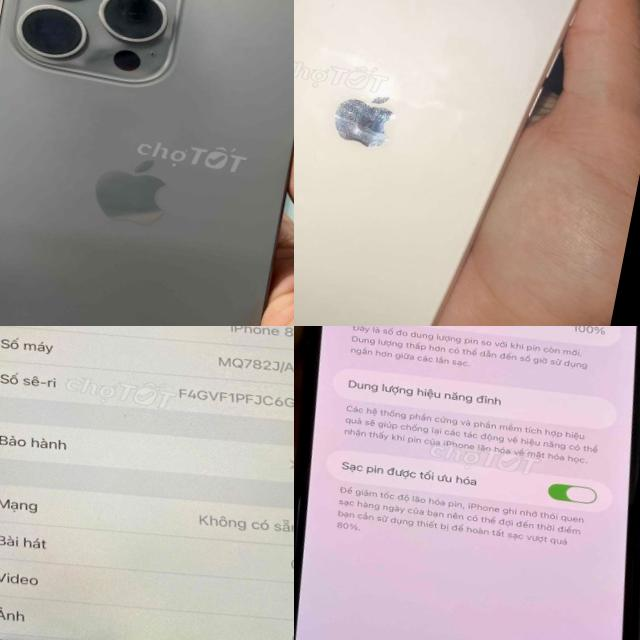gen_11: (294, 326, 640, 640)
gen_15: (0, 0, 294, 326)
gen_7_8: (294, 0, 606, 326), (0, 326, 294, 640)
